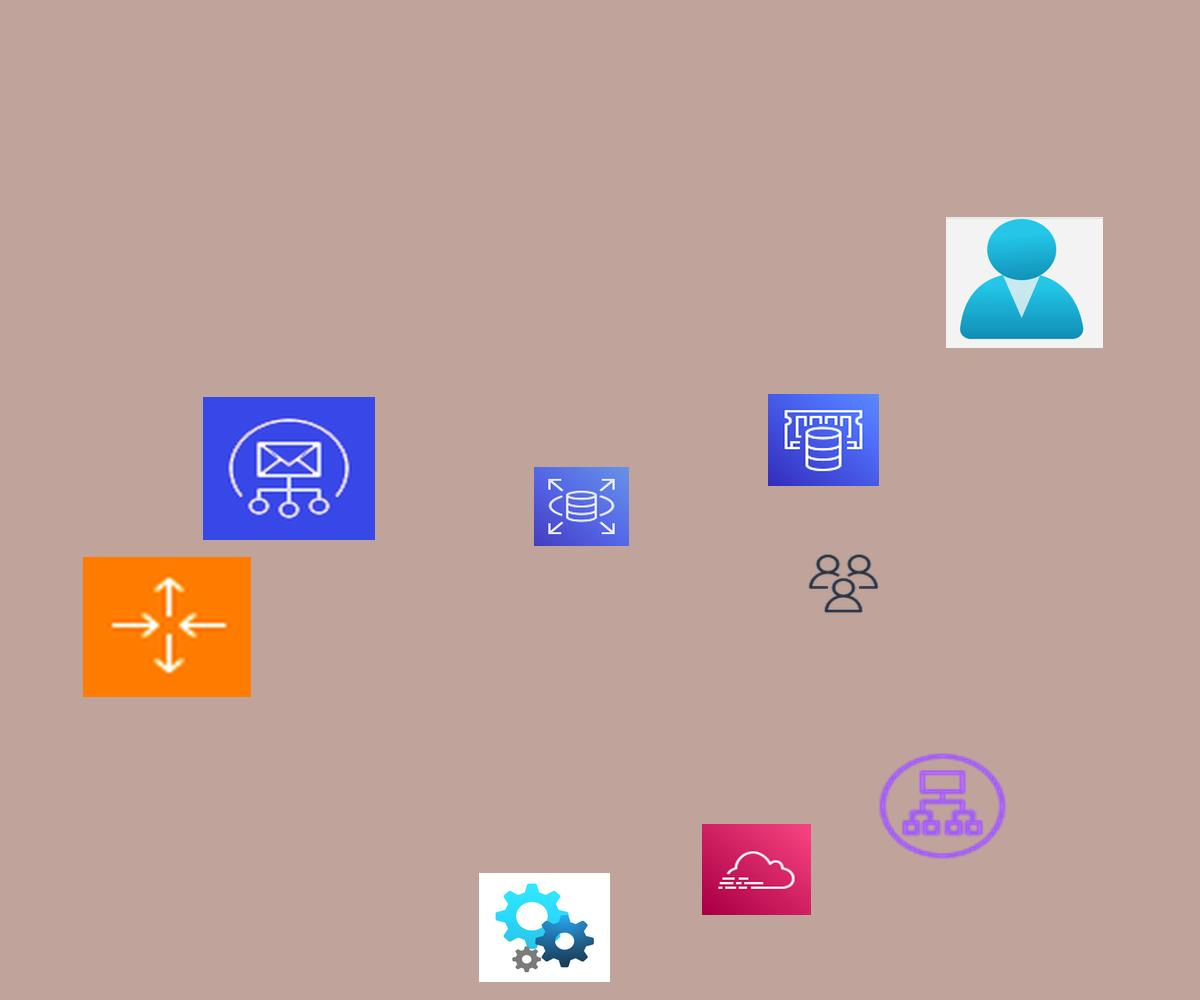AWS-CloudTrail: (702, 824, 811, 915)
AWS-ElastiCache: (768, 394, 879, 486)
AWS-RDS: (534, 467, 629, 546)
AWS-Res_Elastic-Load-Balancing_Application-Load-Balancer: (874, 749, 1011, 863)
AWS-Res_Users: (806, 552, 881, 615)
AWS-Scaling-group: (83, 557, 251, 697)
AWS-Simple-Email-Service: (203, 397, 375, 540)
Azure_api: (479, 873, 610, 982)
Azure_users: (946, 217, 1103, 348)
